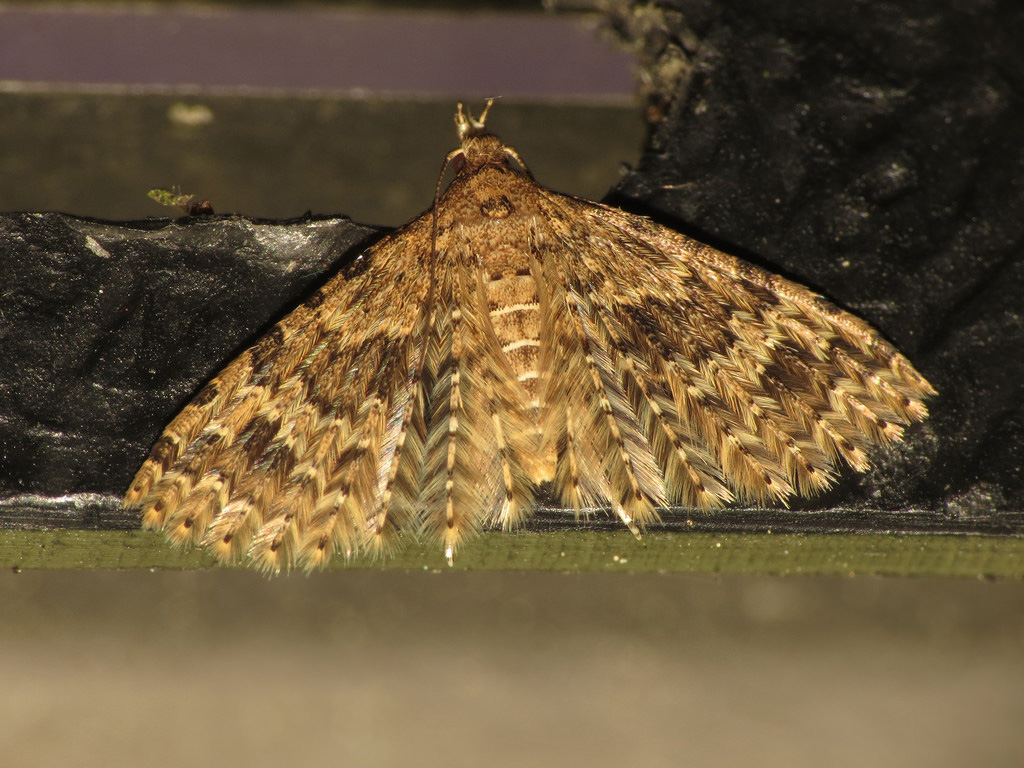Alucitidae: (113, 84, 945, 570)
moth: (115, 86, 947, 572)
